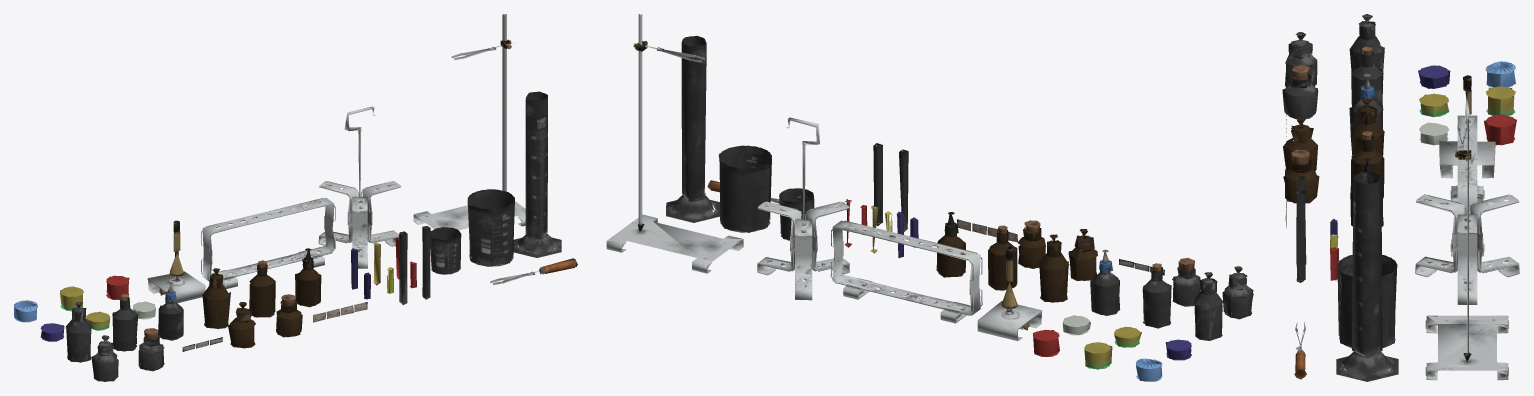
The model's file is chemistry_set.glb.
The picture shows the model from 3 angles, left to right: view 1: azimuth 30°, elevation 25°; view 2: azimuth 150°, elevation 25°; view 3: azimuth 270°, elevation 25°; orthographic projection. The views are drawn at different scales.
Visible parts, largest first — view 1: CC0_chemistry_set; view 2: CC0_chemistry_set; view 3: CC0_chemistry_set.
Part boxes in pixels (x1=…): CC0_chemistry_set: x1=14, y1=14, x2=577, y2=381; CC0_chemistry_set: x1=606, y1=14, x2=1253, y2=381; CC0_chemistry_set: x1=1282, y1=14, x2=1519, y2=381.
Bounding box in the file's own units: 1.08 × 0.4294 × 0.3556.
Materials: 2 (2 with a texture image).
